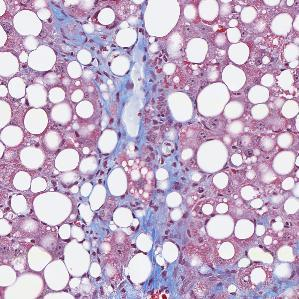fibrosis: (125, 183, 201, 293), (88, 48, 172, 136)
